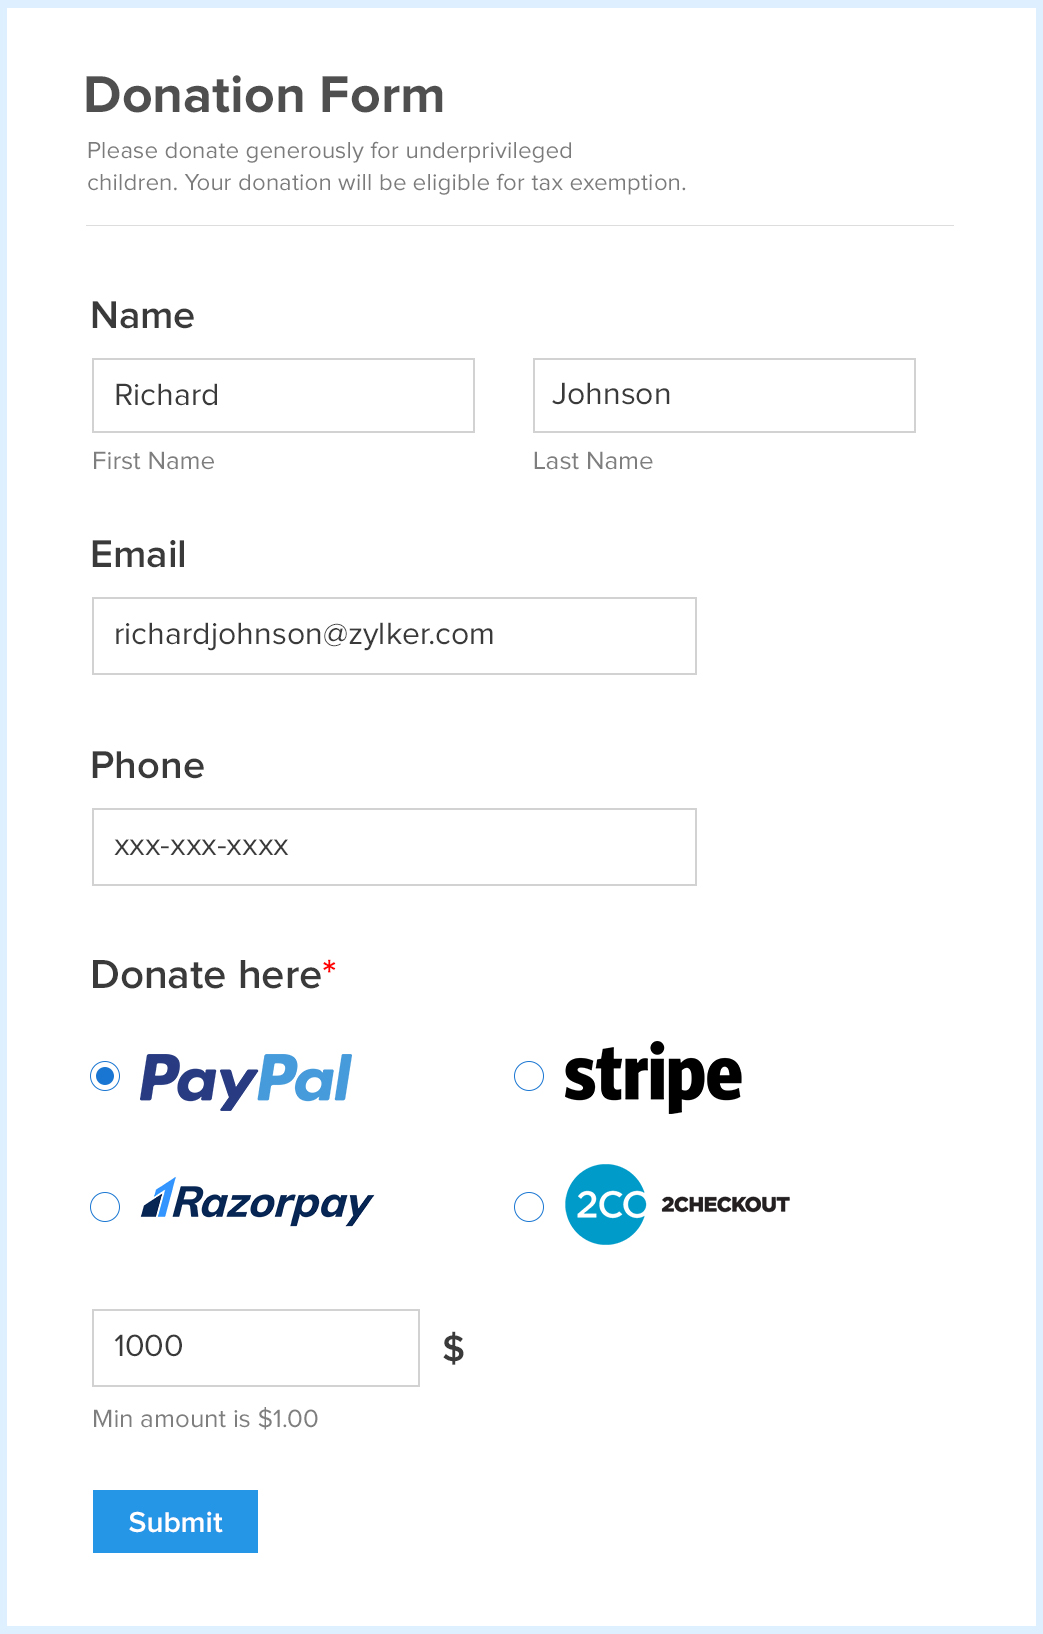button: (90, 1488, 260, 1557)
checkbox: (90, 1306, 421, 1387)
field: (93, 807, 702, 890), (90, 598, 700, 678), (533, 357, 920, 439), (85, 357, 481, 437)
radio: (514, 1043, 556, 1102), (87, 1053, 131, 1108), (85, 1184, 127, 1229), (514, 1180, 548, 1229)
